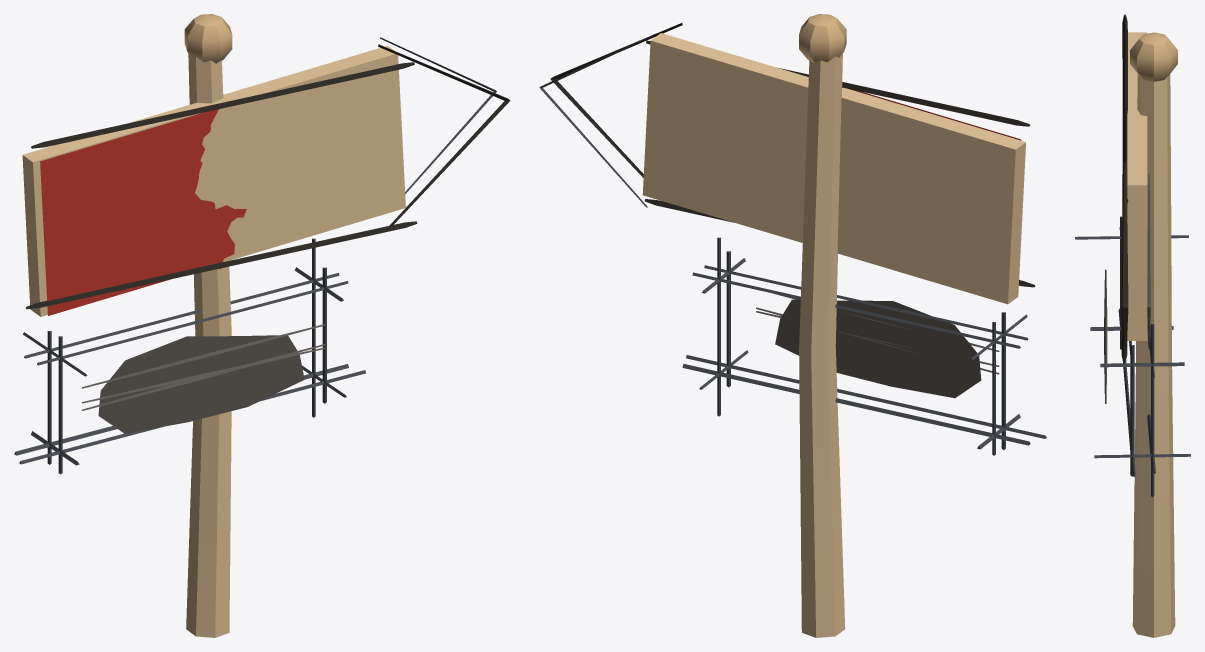
File: Signpost.fbx
3 renders of one model, left to right at view 1: azimuth 30°, elevation 25°; view 2: azimuth 150°, elevation 25°; view 3: azimuth 270°, elevation 25°, orthographic. The views are drawn at different scales.
Parts seen in each view (by area): view 1: Lines, Paint, Post, Face; view 2: Post, Lines; view 3: Post, Lines.
Boxes of the visible parts, x1,y1,x2,y2 form: Lines: (14,37,510,474); Paint: (40,109,246,315); Post: (22,14,405,637); Face: (195,66,391,251); Post: (642,14,1025,637); Lines: (539,23,1046,455); Post: (1127,32,1177,637); Lines: (1075,14,1190,496).
Size of the model in its own units: 1.64 by 1.96 by 0.3453.
